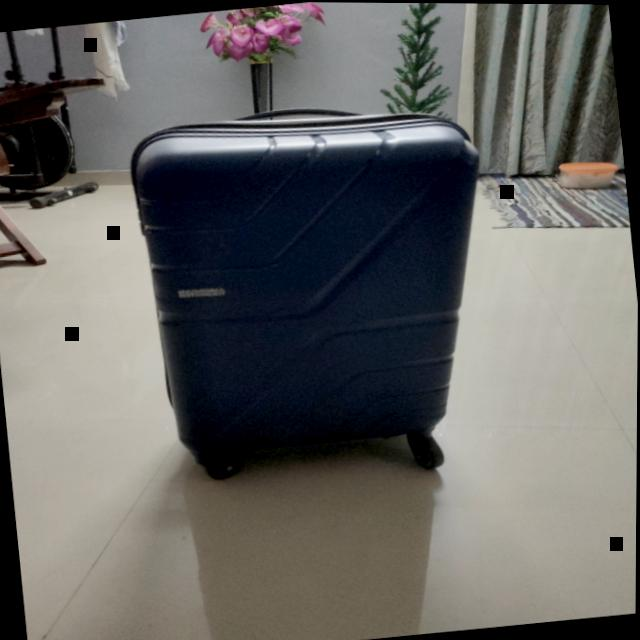luggage: (122, 90, 511, 470)
